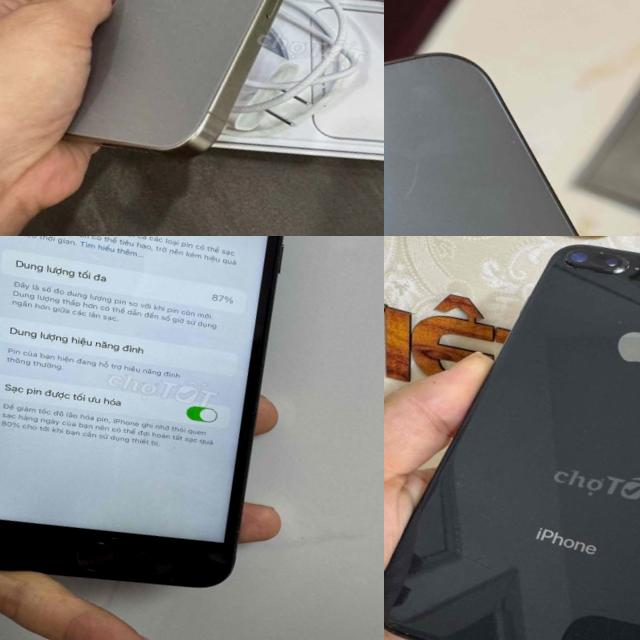gen_12_13: (384, 0, 640, 236)
gen_15: (77, 0, 354, 189)
gen_7_8: (0, 236, 336, 621), (384, 236, 640, 640)
scratch: (384, 143, 450, 234), (546, 236, 640, 296), (226, 516, 248, 564)
